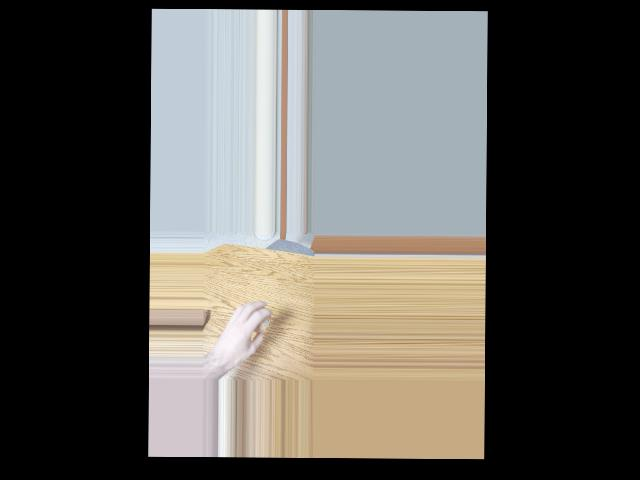onion: (250, 306, 270, 334)
